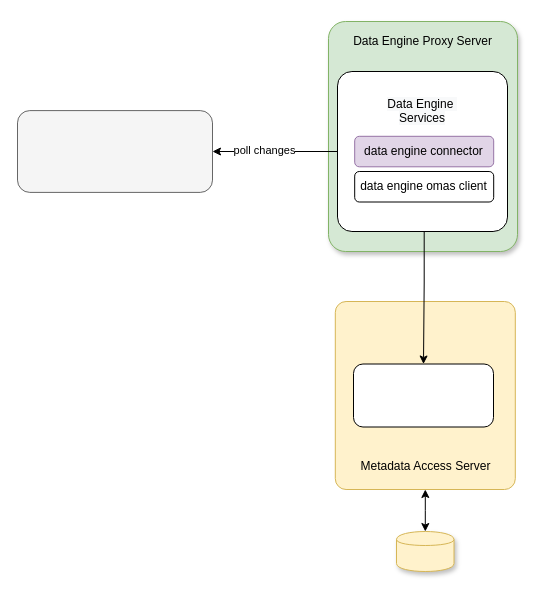
Some shapes in this 541 by 596 pixel diagram are drawn without their labels. Each missing label, with the centre of its shape:
"Data Engine OMAS" goes at pixel 423 395.
"Third Party Data Platform" goes at pixel 114 151.
